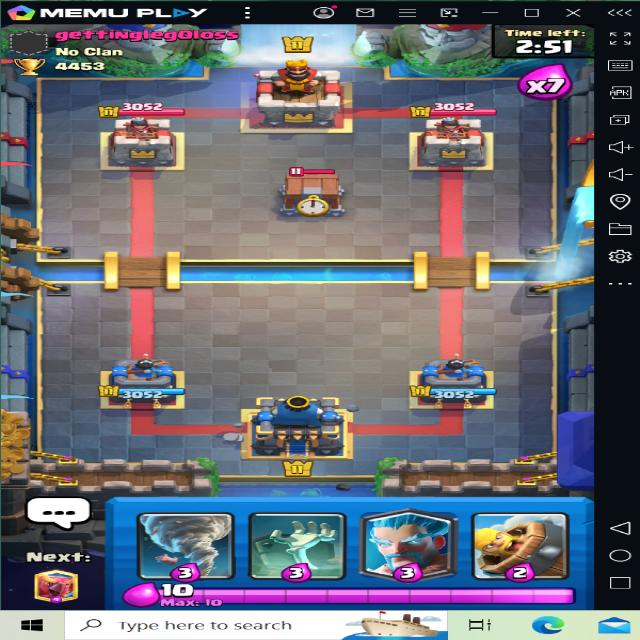goblin-cage: (273, 167, 347, 216)
